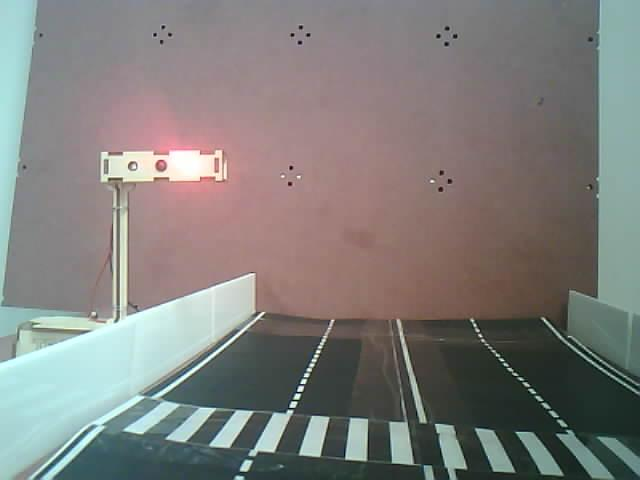red: (79, 408, 640, 471), (92, 141, 231, 311)
